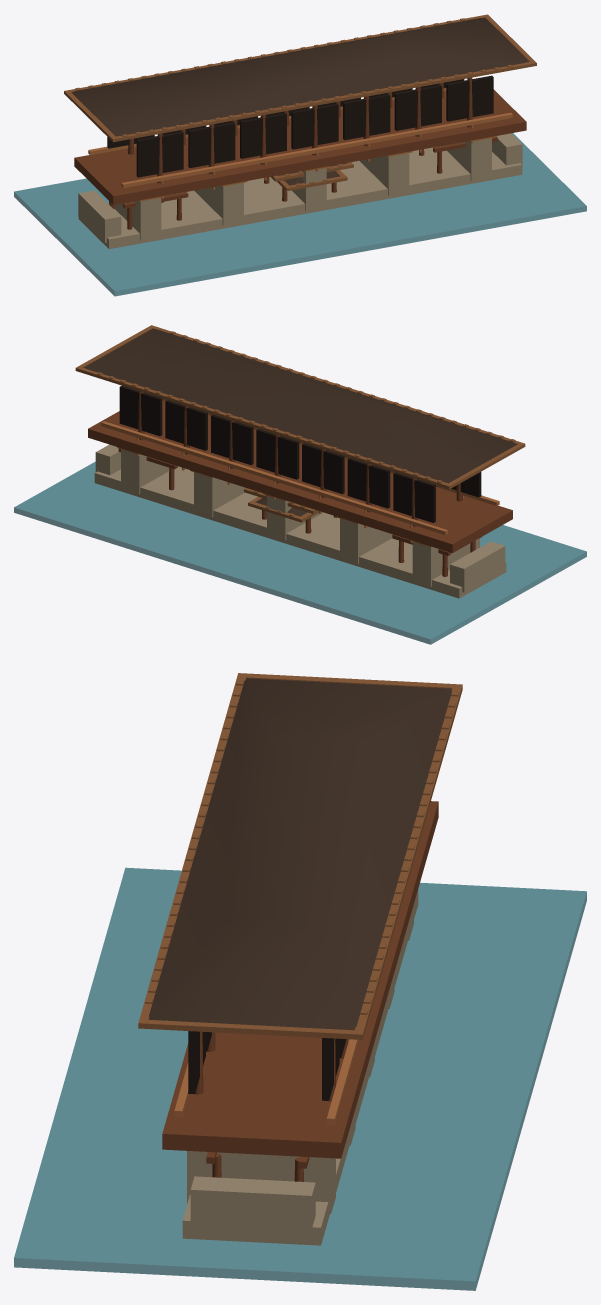
The picture shows the model from 3 angles, top to bottom: view 1: azimuth 30°, elevation 25°; view 2: azimuth 150°, elevation 25°; view 3: azimuth 270°, elevation 25°; orthographic projection. The views are drawn at different scales.
Parts seen in each view (by area): view 1: 浔江水面, Main_Wind_Rain_Roof, Back_Shadow_Bay (×7), Covered_Walkway_Floor, Bridge_Stone_Deck, Stone_Pier (×5), Back_Railing, Entrance_Stone_Block (×2), Main_Wind_Rain_Roof_back_eave, Main_Wind_Rain_Roof_front_eave, Main_Wind_Rain_Roof_left_eave; view 2: 浔江水面, Main_Wind_Rain_Roof, Front_Shadow_Bay (×7), Covered_Walkway_Floor, Bridge_Stone_Deck, Stone_Pier (×5), Entrance_Stone_Block (×2), Front_Railing, Main_Wind_Rain_Roof_front_eave, Main_Wind_Rain_Roof_back_eave, Main_Wind_Rain_Roof_left_eave, Back_Shadow_Bay; view 3: 浔江水面, Main_Wind_Rain_Roof, Covered_Walkway_Floor, Entrance_Stone_Block, Stone_Pier, Bridge_Stone_Deck, Main_Wind_Rain_Roof_front_eave, Main_Wind_Rain_Roof_back_eave, Main_Wind_Rain_Roof_right_eave, Main_Wind_Rain_Roof_left_eave, Front_Railing, Front_Shadow_Bay (+1 smaller).
Part boxes in pixels (x1,y1,x2,y2): 浔江水面: [14, 133, 586, 296]; Main_Wind_Rain_Roof: [71, 18, 529, 136]; Back_Shadow_Bay (×7): [136, 75, 493, 177]; Covered_Walkway_Floor: [74, 89, 526, 204]; Bridge_Stone_Deck: [78, 146, 522, 249]; Stone_Pier (×5): [109, 138, 491, 240]; Back_Railing: [121, 112, 512, 187]; Entrance_Stone_Block (×2): [78, 133, 522, 242]; Main_Wind_Rain_Roof_back_eave: [111, 61, 536, 142]; Main_Wind_Rain_Roof_front_eave: [64, 14, 489, 92]; Main_Wind_Rain_Roof_left_eave: [64, 91, 117, 141]; 浔江水面: [14, 461, 586, 644]; Main_Wind_Rain_Roof: [83, 328, 517, 483]; Front_Shadow_Bay (×7): [119, 385, 435, 522]; Covered_Walkway_Floor: [88, 400, 512, 552]; Bridge_Stone_Deck: [94, 466, 506, 598]; Stone_Pier (×5): [121, 449, 479, 586]; Entrance_Stone_Block (×2): [95, 444, 505, 592]; Front_Railing: [101, 421, 447, 534]; Main_Wind_Rain_Roof_front_eave: [76, 366, 452, 489]; Main_Wind_Rain_Roof_back_eave: [149, 325, 525, 447]; Main_Wind_Rain_Roof_left_eave: [446, 442, 524, 488]; Back_Shadow_Bay: [451, 472, 481, 497]; 浔江水面: [14, 867, 586, 1290]; Main_Wind_Rain_Roof: [148, 678, 451, 1030]; Covered_Walkway_Floor: [162, 801, 438, 1158]; Entrance_Stone_Block: [190, 1176, 315, 1237]; Stone_Pier: [187, 1151, 335, 1213]; Bridge_Stone_Deck: [182, 889, 418, 1245]; Main_Wind_Rain_Roof_front_eave: [353, 684, 462, 1039]; Main_Wind_Rain_Roof_back_eave: [138, 673, 247, 1028]; Main_Wind_Rain_Roof_right_eave: [138, 1020, 363, 1039]; Main_Wind_Rain_Roof_left_eave: [245, 673, 462, 692]; Front_Railing: [326, 1039, 358, 1125]; Front_Shadow_Bay: [322, 1038, 339, 1100].
Bounding box in the file's own units: 16.84 × 4.81 × 9.86.
